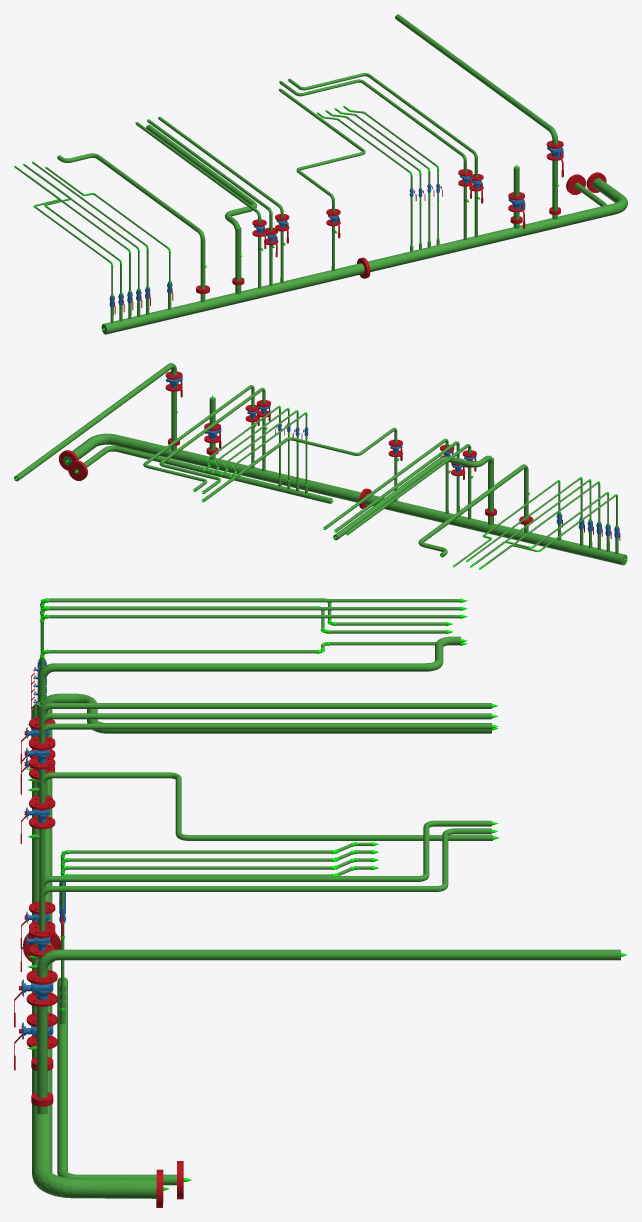
File: Phase40a.fbx
3 views of the same model, one above another, from view 1: azimuth 30°, elevation 25°; view 2: azimuth 150°, elevation 25°; view 3: azimuth 270°, elevation 25° (orthographic). The views are drawn at different scales.
Parts seen in each view (by area): view 1: Типы трубопроводов:Труба:256991 (×2), Типы трубопроводов:Труба:326577, Типы трубопроводов:Труба:329832, Типы трубопроводов:Труба:330034, Типы трубопроводов:Труба:329161, Типы трубопроводов:Труба:329177, Типы трубопроводов:Труба:329141, Типы трубопроводов:Труба:326859, Типы трубопроводов:Труба:327004; view 2: Типы трубопроводов:Труба:256991 (×2), Типы трубопроводов:Труба:281633, Типы трубопроводов:Труба:326577, Типы трубопроводов:Труба:329832, Типы трубопроводов:Труба:330034, Типы трубопроводов:Труба:329177, Типы трубопроводов:Труба:329161, Типы трубопроводов:Труба:329141, Типы трубопроводов:Труба:326859, Типы трубопроводов:Труба:327004, Типы трубопроводов:Труба:328929, Типы трубопроводов:Труба:278691 (+3 smaller); view 3: Типы трубопроводов:Труба:326577, Типы трубопроводов:Труба:256991 (×3), Типы трубопроводов:Труба:330034, Типы трубопроводов:Труба:329141, Типы трубопроводов:Труба:329161, Типы трубопроводов:Труба:329177, Типы трубопроводов:Труба:326859, Типы трубопроводов:Труба:329832, Типы трубопроводов:Труба:327004, Типы трубопроводов:Труба:281633, Типы трубопроводов:Труба:278691, Типы трубопроводов:Труба:328929 (+9 smaller).
Boxes of the visible parts, x1,y1,x2,y2 form: Типы трубопроводов:Труба:256991 (×2): (101,203,616,334); Типы трубопроводов:Труба:326577: (395,14,551,130); Типы трубопроводов:Труба:329832: (146,124,253,204); Типы трубопроводов:Труба:330034: (96,155,199,232); Типы трубопроводов:Труба:329161: (147,119,268,209); Типы трубопроводов:Труба:329177: (135,122,257,212); Типы трубопроводов:Труба:329141: (158,117,279,206); Типы трубопроводов:Труба:326859: (367,74,474,152); Типы трубопроводов:Труба:327004: (361,80,462,155); Типы трубопроводов:Труба:256991 (×2): (112,434,627,565); Типы трубопроводов:Труба:281633: (116,446,332,503); Типы трубопроводов:Труба:326577: (14,364,172,481); Типы трубопроводов:Труба:329832: (333,458,442,540); Типы трубопроводов:Труба:330034: (421,465,524,541); Типы трубопроводов:Труба:329177: (346,444,468,535); Типы трубопроводов:Труба:329161: (334,441,456,532); Типы трубопроводов:Труба:329141: (323,439,445,529); Типы трубопроводов:Труба:326859: (145,385,251,464); Типы трубопроводов:Труба:327004: (161,388,262,463); Типы трубопроводов:Труба:328929: (202,438,287,502); Типы трубопроводов:Труба:278691: (63,437,97,466); Типы трубопроводов:Труба:326577: (58,949,620,960); Типы трубопроводов:Труба:256991 (×3): (32,703,52,1173); Типы трубопроводов:Труба:330034: (55,663,426,671); Типы трубопроводов:Труба:329141: (51,723,491,729); Типы трубопроводов:Труба:329161: (51,713,491,719); Типы трубопроводов:Труба:329177: (51,703,491,708); Типы трубопроводов:Труба:326859: (51,886,436,891); Типы трубопроводов:Труба:329832: (108,723,491,733); Типы трубопроводов:Труба:327004: (51,876,417,881); Типы трубопроводов:Труба:281633: (57,977,67,1172); Типы трубопроводов:Труба:278691: (72,1178,156,1198); Типы трубопроводов:Труба:328929: (187,835,492,840).
Size of the model in its own units: 6060 by 3272 by 1147.
